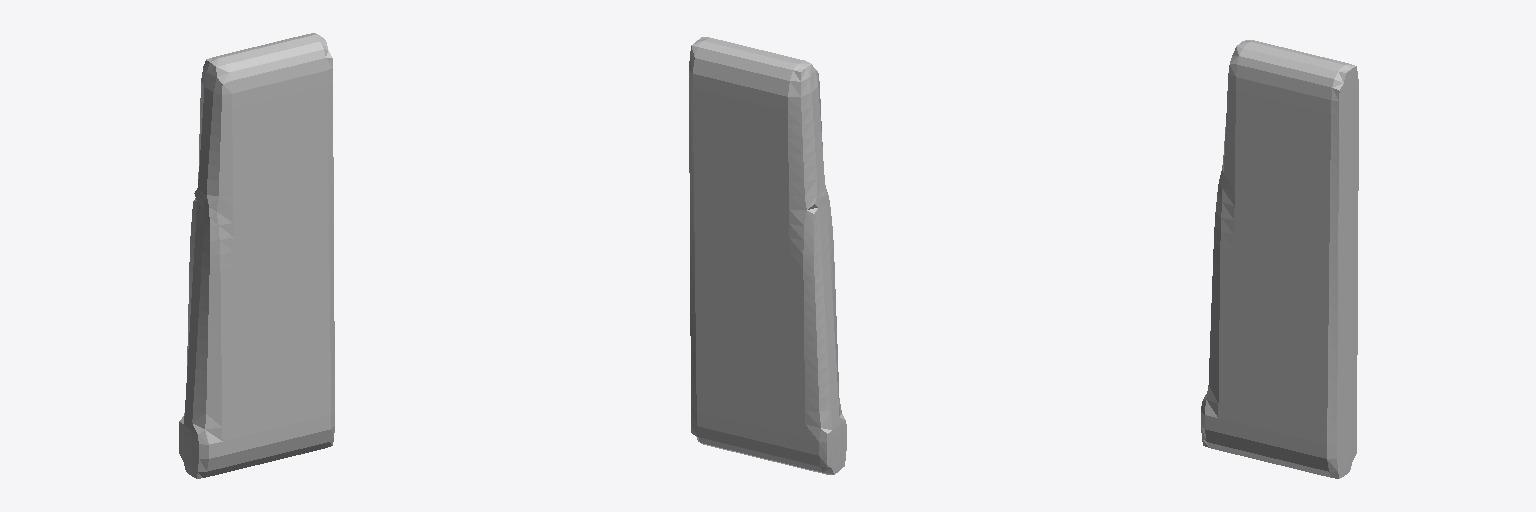
The model's file is right_inner_knuckle_collisions_mesh_0.obj.
The picture shows the model from 3 angles: view 1: azimuth 30°, elevation 25°; view 2: azimuth 150°, elevation 25°; view 3: azimuth 330°, elevation 25°; orthographic projection.
Parts seen in each view (by area): view 1: right_inner_knuckle_collisions_mesh_0; view 2: right_inner_knuckle_collisions_mesh_0; view 3: right_inner_knuckle_collisions_mesh_0.
Boxes of the visible parts, x1=… form: right_inner_knuckle_collisions_mesh_0: x1=179, y1=33, x2=334, y2=478; right_inner_knuckle_collisions_mesh_0: x1=689, y1=37, x2=846, y2=474; right_inner_knuckle_collisions_mesh_0: x1=1201, y1=40, x2=1358, y2=478.
Bounding box in the file's own units: 0.039 × 0.111 × 0.014.